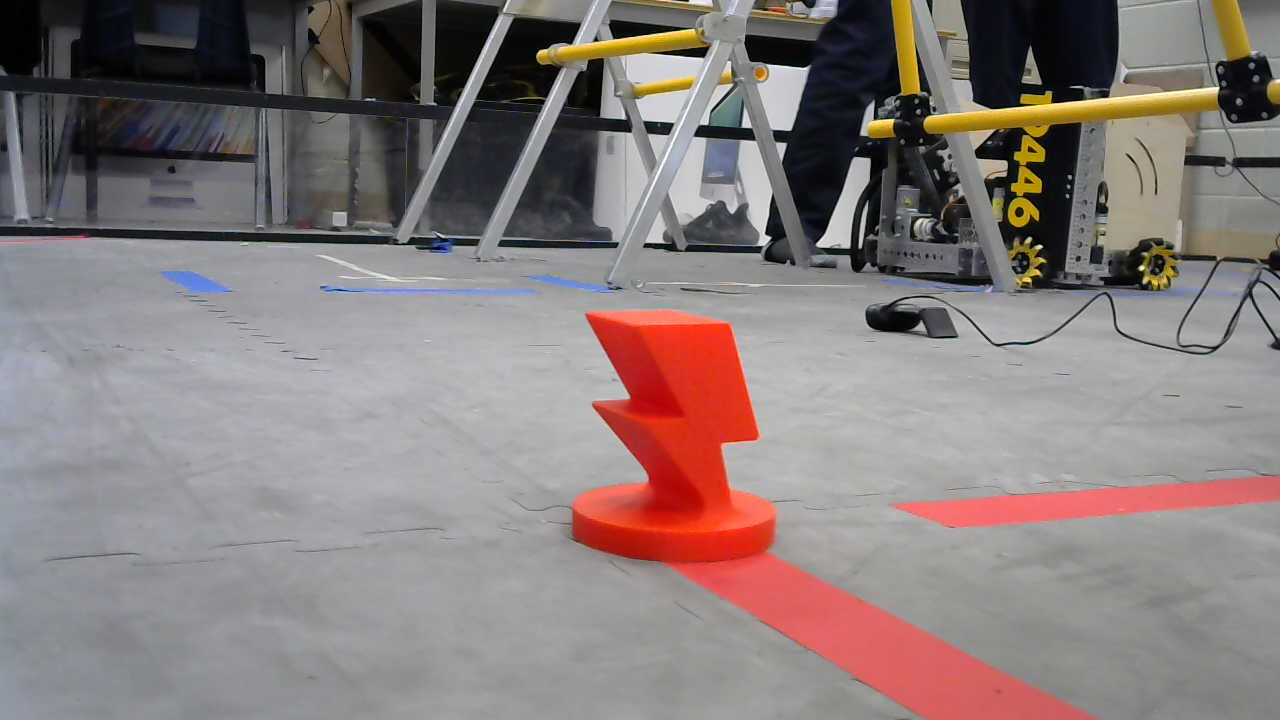redobject: (572, 301, 784, 558)
